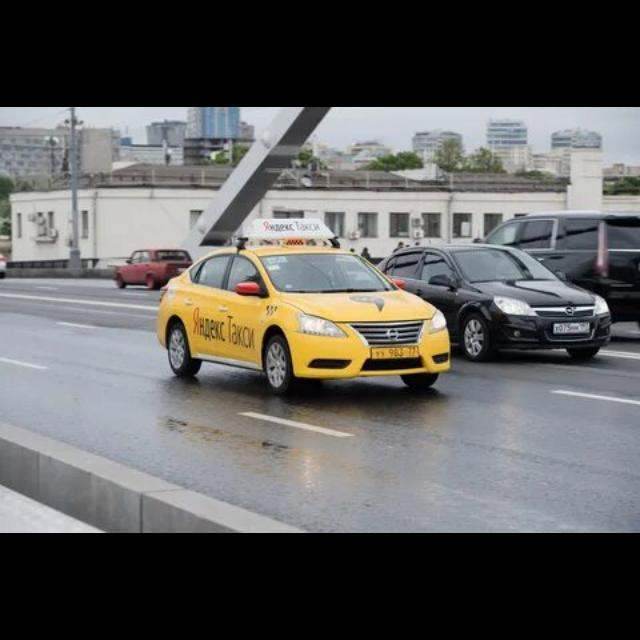taxi: (157, 218, 451, 396)
